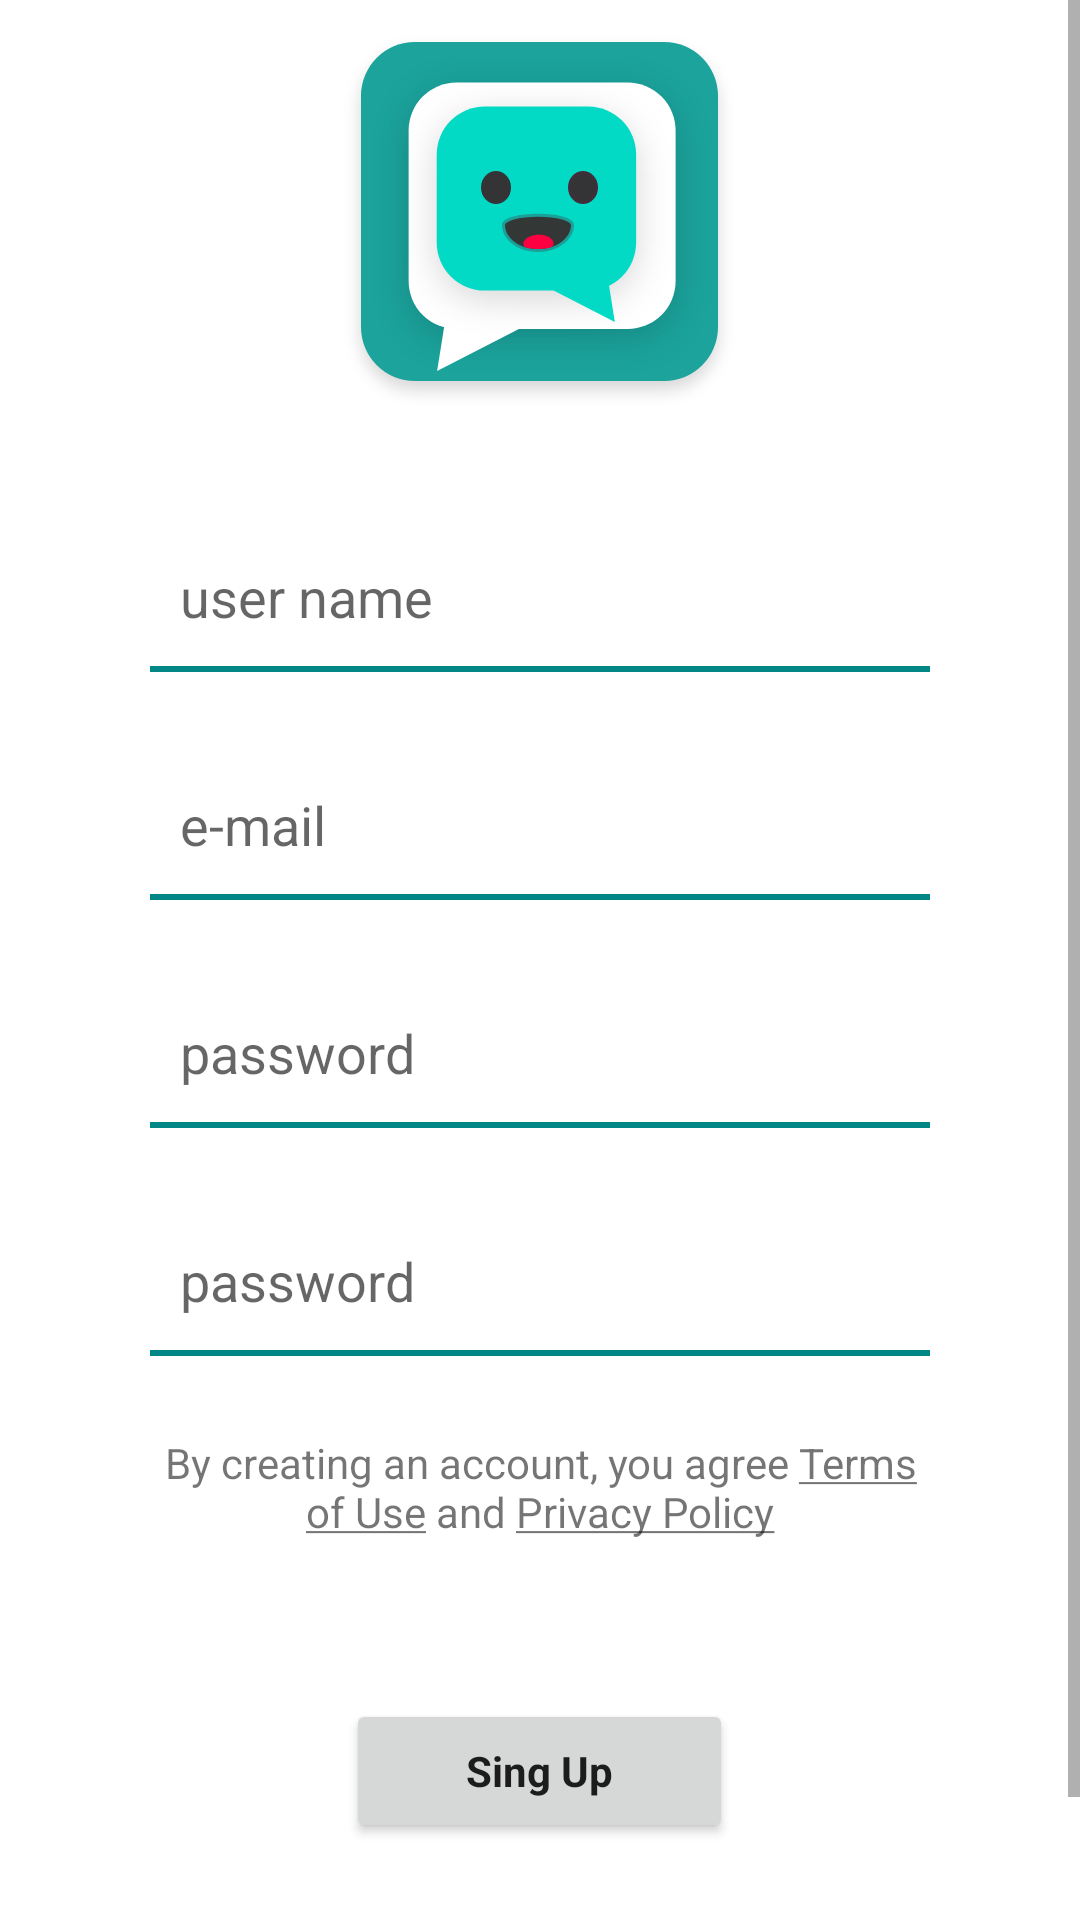

Icon bounding boxes for this 1080 x 1920 phone screenshot, format (x1, y1, x2, y2):
app: (361, 42, 718, 388)
